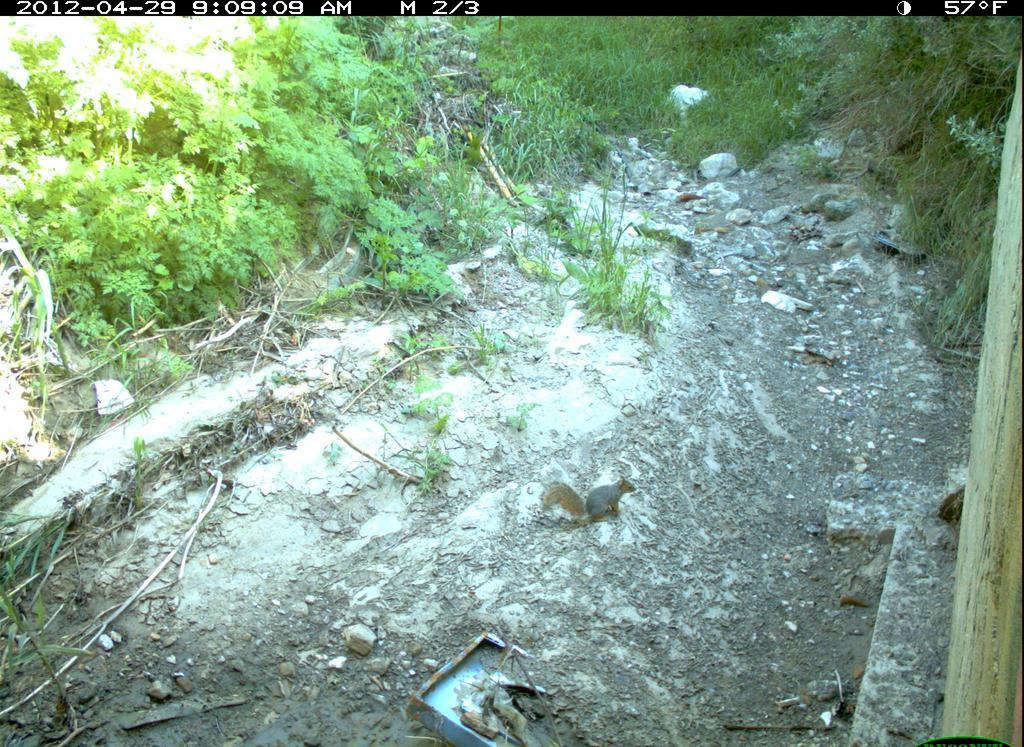squirrel: (525, 464, 649, 538)
